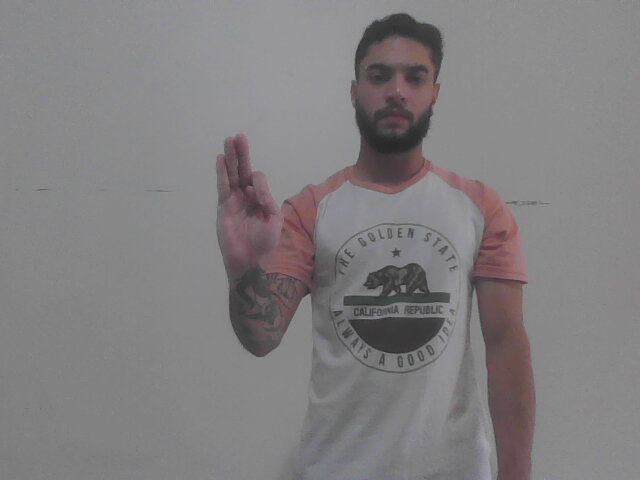t: (202, 128, 299, 278)
